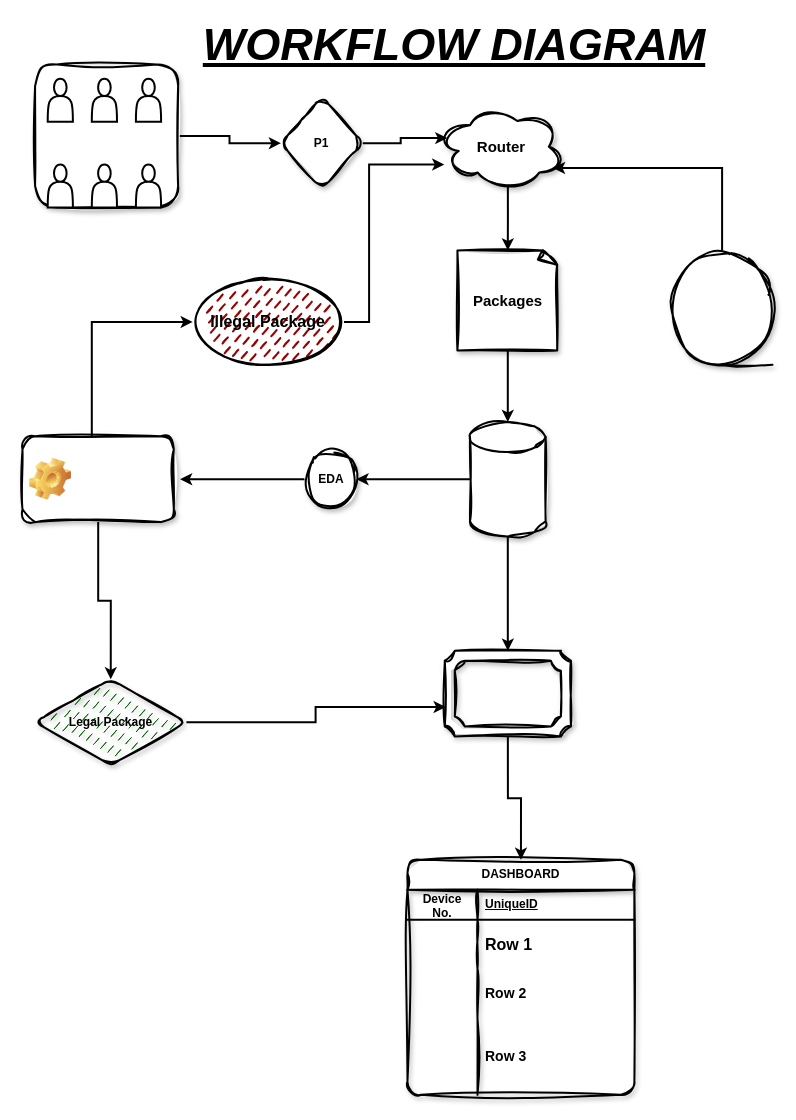
This 796x1120 diagram has some shape labels left out. Each missing label, with the centre of its shape:
"Data Storage" belongs at point (508, 480).
"Machine Learning" belongs at point (98, 480).
"Protocol 2" belongs at point (508, 694).
"Search/Filter" belongs at point (722, 308).
